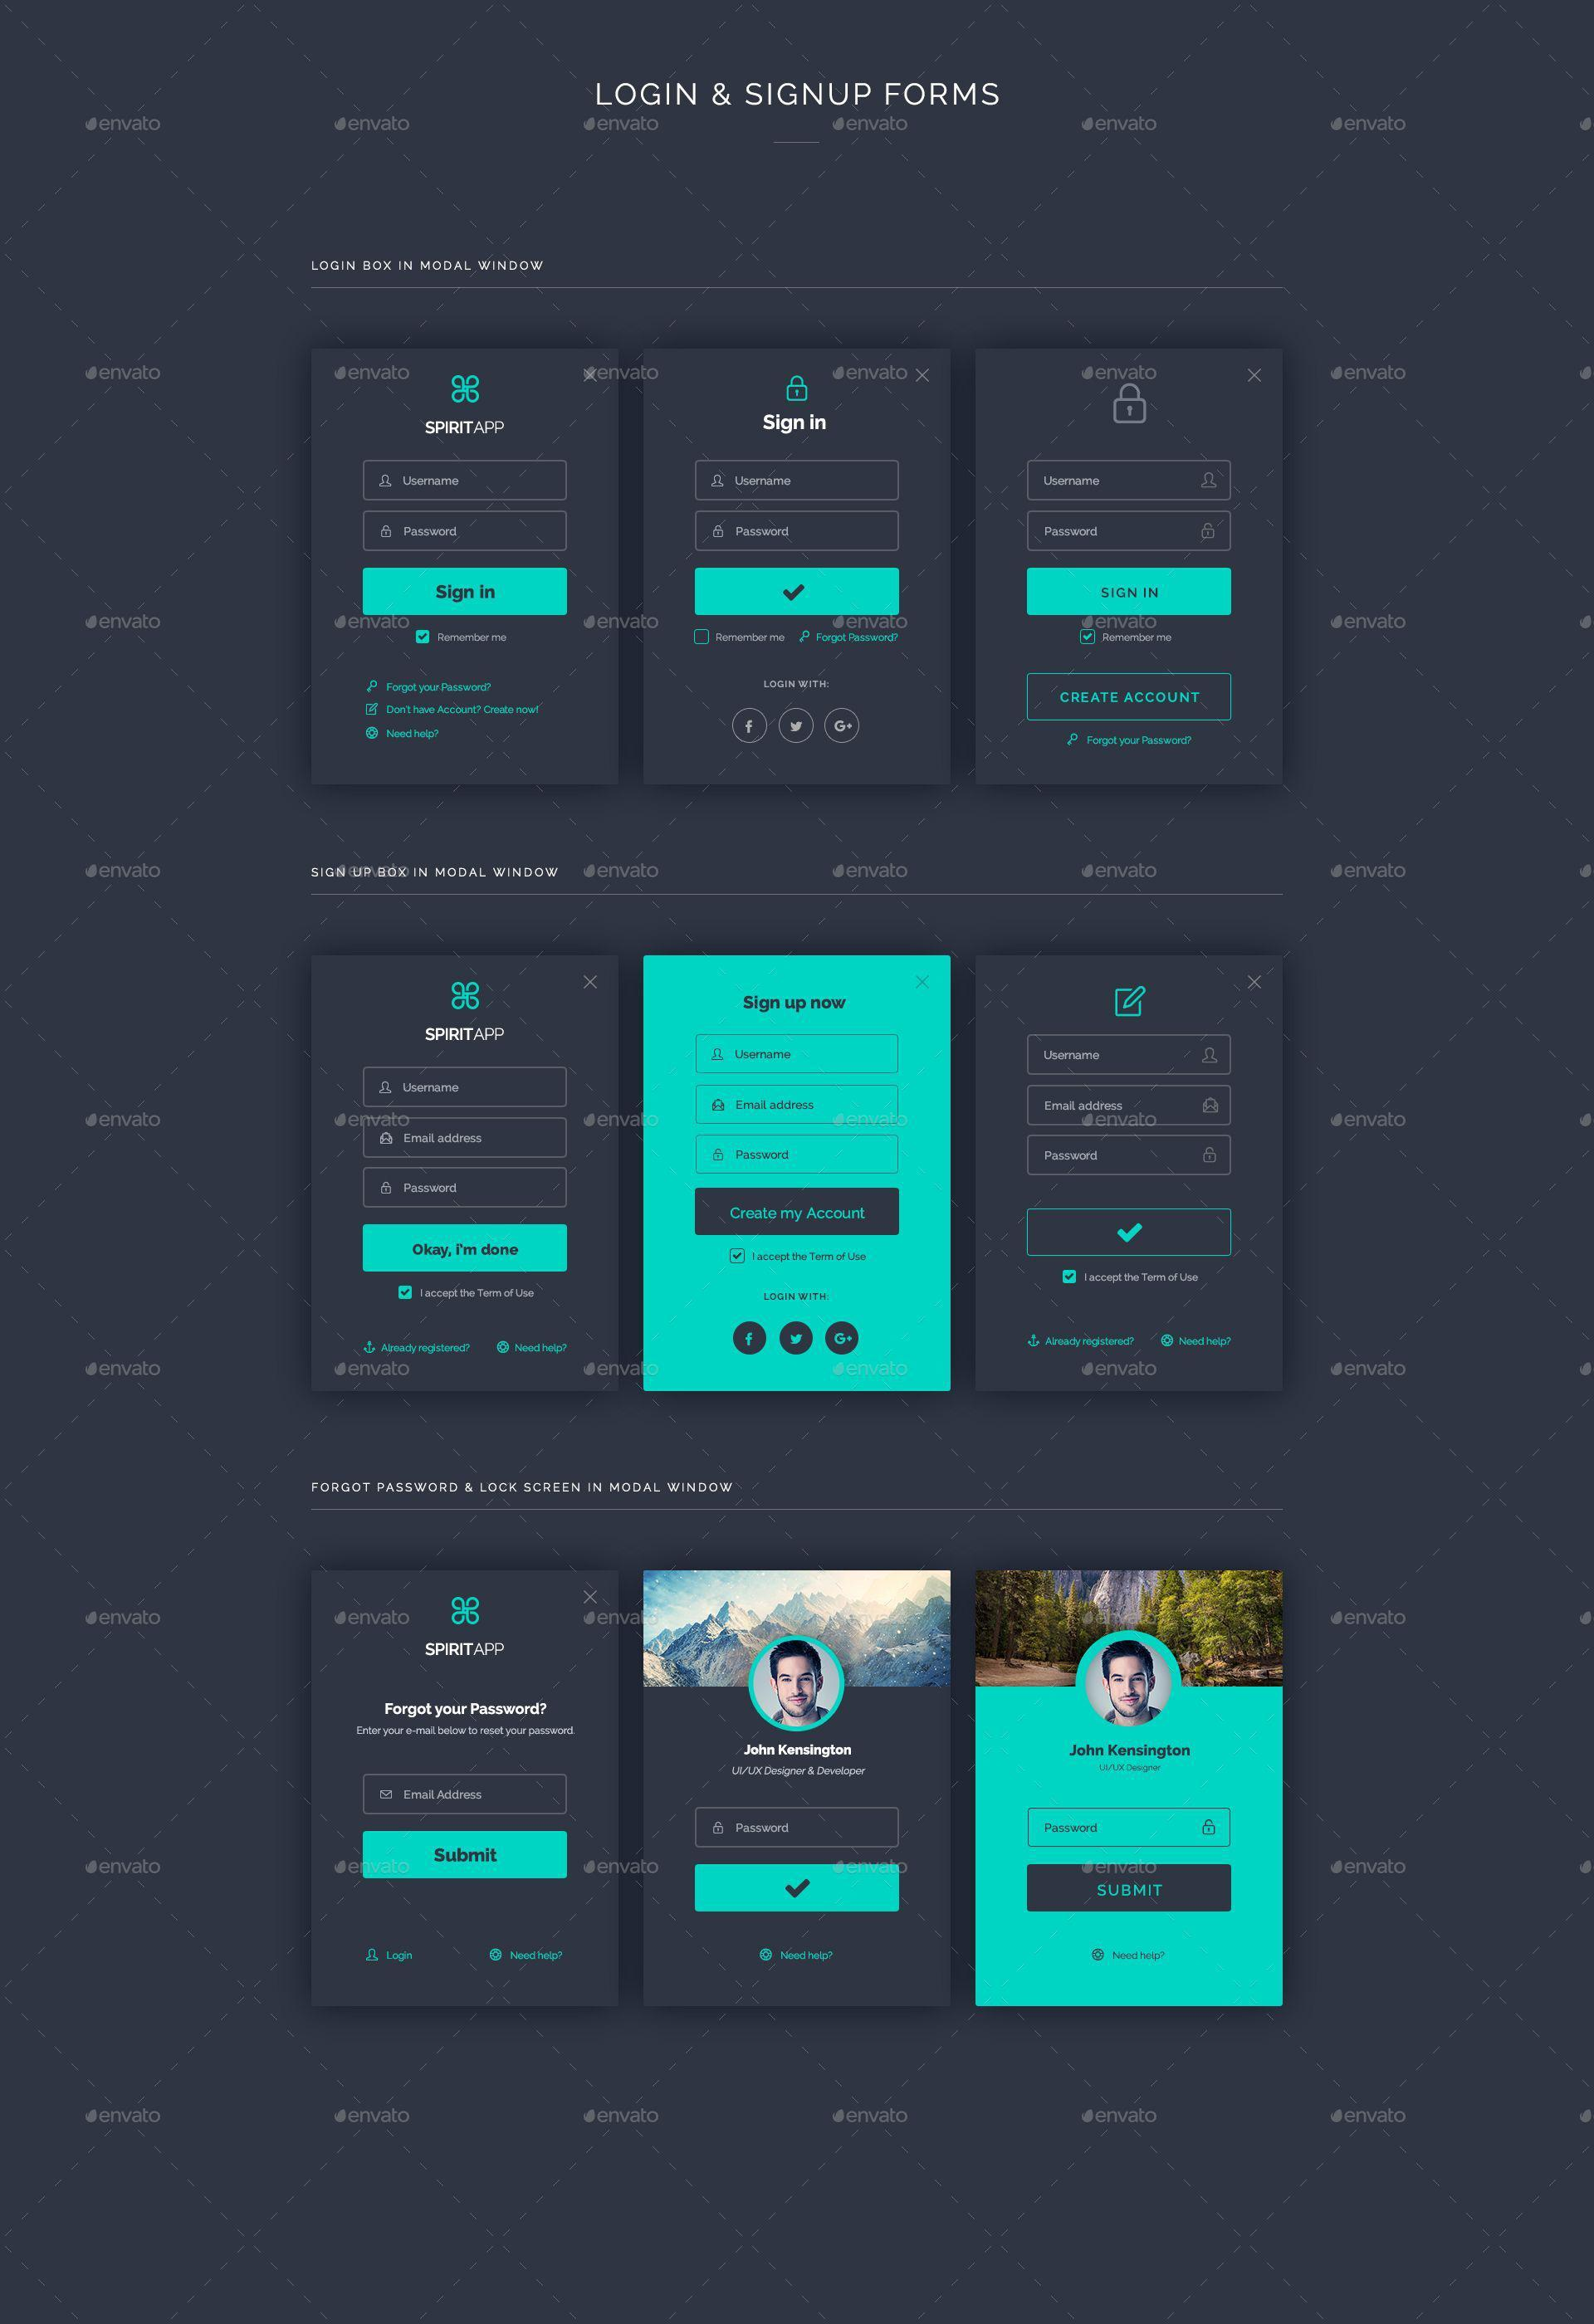button: (362, 569, 569, 618), (362, 1831, 567, 1881), (1027, 1865, 1233, 1913), (364, 1226, 569, 1273), (696, 1865, 901, 1913), (1027, 569, 1230, 615), (696, 1190, 899, 1236), (1029, 1210, 1232, 1256), (1027, 675, 1233, 719), (695, 569, 899, 613)
checkbox: (728, 1245, 748, 1271), (693, 629, 712, 646), (398, 1286, 414, 1302), (1062, 1270, 1078, 1286), (415, 630, 431, 646), (1080, 630, 1096, 645)
icon: (1108, 980, 1150, 1024), (730, 1317, 769, 1358), (1113, 385, 1150, 427), (779, 1321, 818, 1358), (827, 1321, 864, 1356), (451, 980, 486, 1014), (449, 374, 484, 406), (451, 1595, 482, 1628), (786, 376, 811, 404), (1202, 1095, 1223, 1118), (1200, 1815, 1219, 1838), (1202, 472, 1221, 493), (1202, 1144, 1221, 1166), (710, 468, 728, 491), (1203, 1047, 1221, 1068), (378, 1077, 394, 1100), (709, 1045, 726, 1065), (832, 719, 854, 735), (1202, 519, 1218, 540), (378, 472, 396, 489), (378, 1130, 396, 1148), (380, 1789, 399, 1805), (364, 728, 382, 743), (710, 1097, 726, 1114), (760, 1948, 776, 1966), (490, 1946, 504, 1966), (712, 1146, 726, 1164), (364, 1340, 378, 1358), (1092, 1946, 1106, 1964), (712, 1821, 726, 1838), (1163, 1332, 1175, 1351), (1029, 1333, 1041, 1353), (742, 719, 756, 735), (366, 678, 380, 694), (366, 703, 380, 719), (382, 524, 396, 540), (799, 630, 813, 646), (382, 1180, 396, 1196), (495, 1342, 511, 1356), (714, 523, 726, 540), (790, 721, 804, 735)
input: (1027, 510, 1230, 553), (1030, 461, 1232, 503), (1030, 1086, 1230, 1128), (362, 1067, 569, 1107), (364, 1775, 569, 1815), (696, 1808, 901, 1849), (364, 512, 567, 553), (366, 1167, 569, 1208), (1029, 1035, 1232, 1075), (1029, 1134, 1232, 1174), (1029, 1810, 1230, 1851), (364, 461, 565, 502), (698, 461, 899, 502), (364, 1120, 567, 1158), (696, 1136, 898, 1174), (698, 512, 898, 551), (696, 1037, 901, 1074), (696, 1086, 901, 1123)
label: (1067, 1734, 1195, 1784), (732, 1743, 868, 1785), (426, 1641, 509, 1660)
